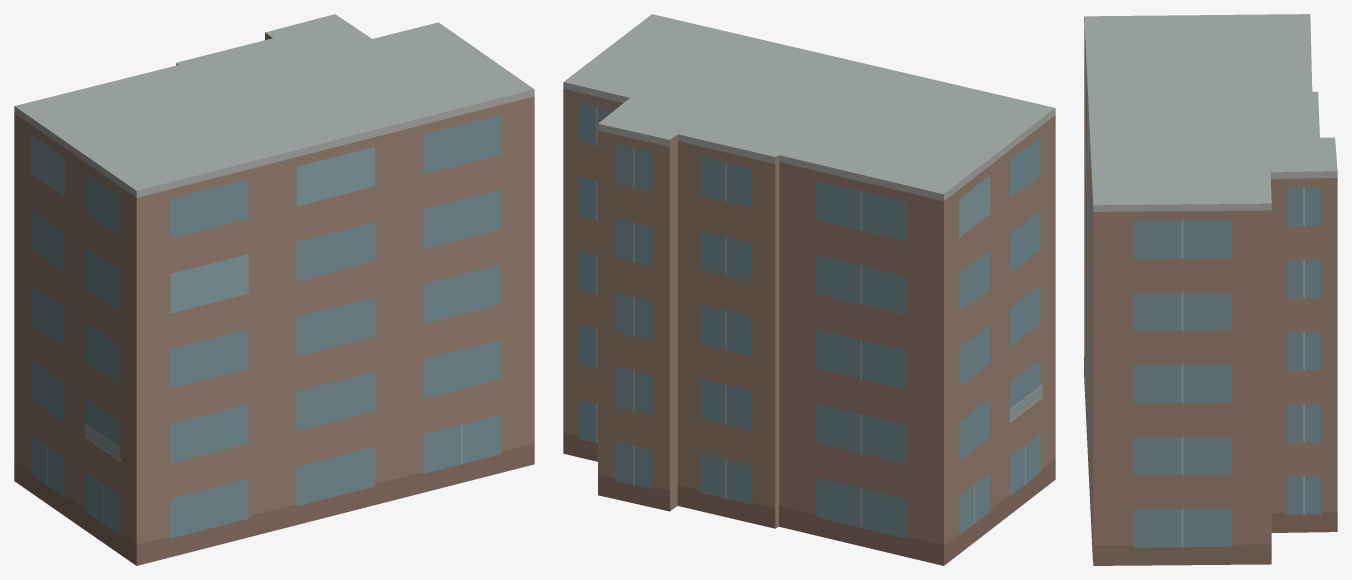
The model's file is survey-upis-32696722.glb.
3 renders of one model, left to right at view 1: azimuth 30°, elevation 25°; view 2: azimuth 150°, elevation 25°; view 3: azimuth 270°, elevation 25°, orthographic. The views are drawn at different scales.
Visible parts, largest first — view 1: survey-upis-32696722.tmp; view 2: survey-upis-32696722.tmp; view 3: survey-upis-32696722.tmp.
Part boxes in pixels (<box>): survey-upis-32696722.tmp: <box>14,14,534,565</box>; survey-upis-32696722.tmp: <box>563,14,1055,565</box>; survey-upis-32696722.tmp: <box>1084,14,1337,565</box>.
Bounding box in the file's own units: 14.9 × 13.1 × 8.35.
